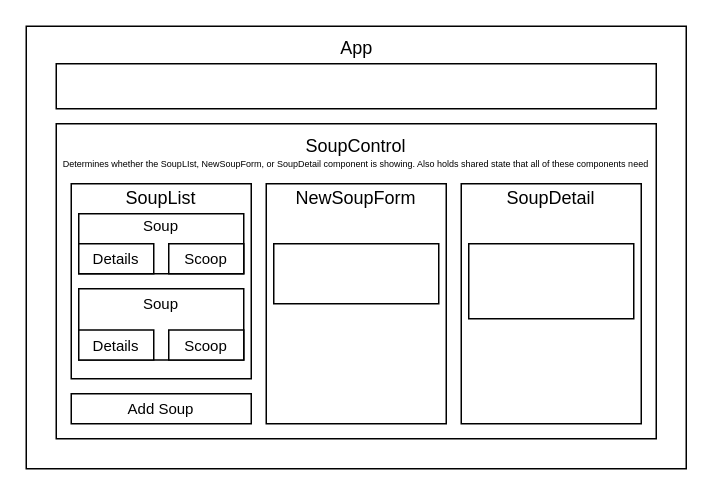
Image size: 713x495. Some labels were removed from this diagram. The shapes that lost their labels are listed below. From the top down, each one's box as (x1, y1, x2, y2) in pixels, then its label:
(55, 62, 656, 109): Header
(272, 242, 439, 304): Submit
(467, 242, 634, 319): Update/Delete
